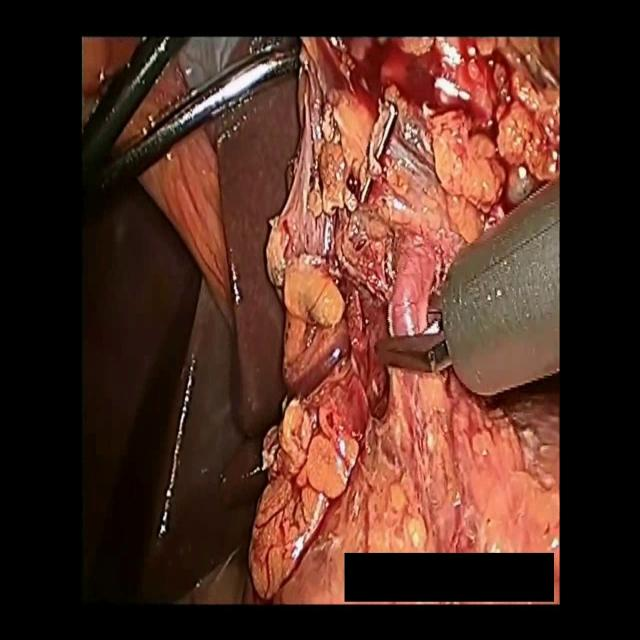surgical-area: (79, 35, 560, 608), (80, 33, 144, 133)
surgical-tool: (79, 35, 301, 228), (372, 174, 560, 396)
